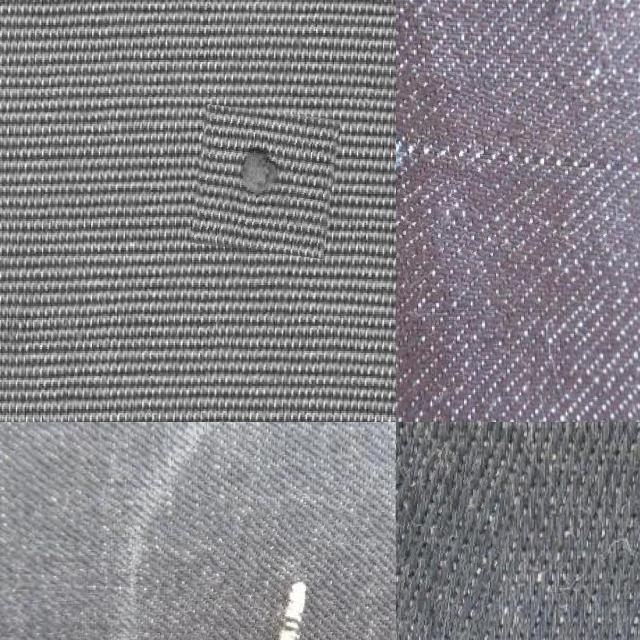other: (194, 108, 337, 256)
stains: (396, 69, 640, 277), (176, 501, 396, 640), (396, 422, 508, 640)
